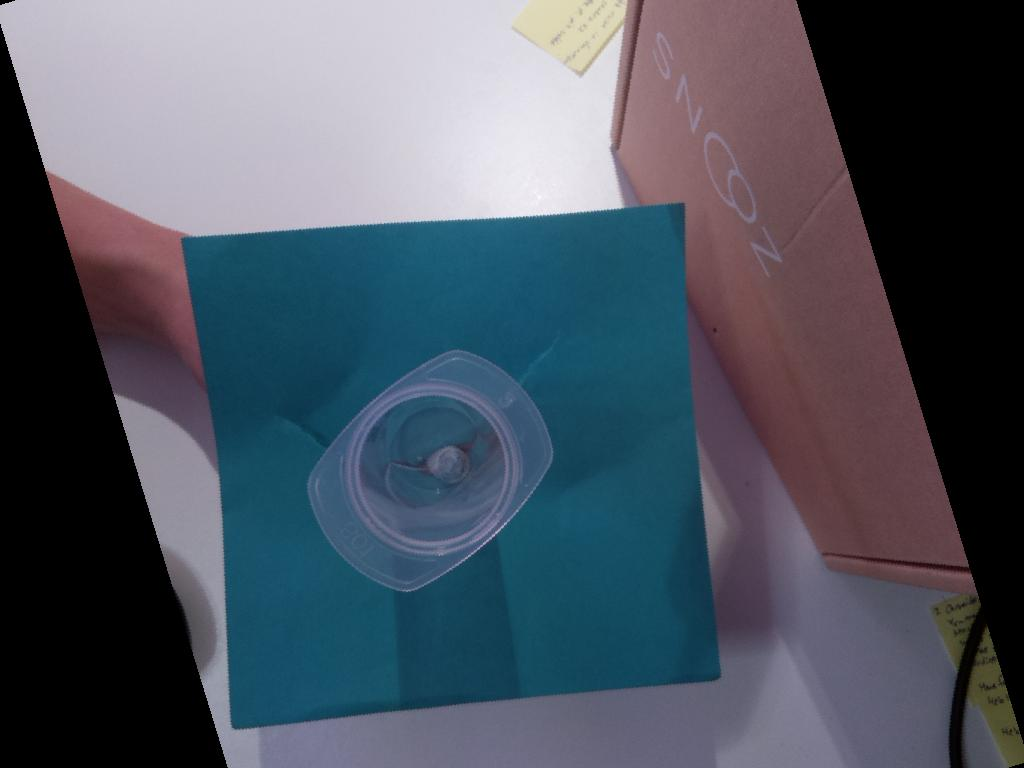clean: (309, 347, 553, 594)
